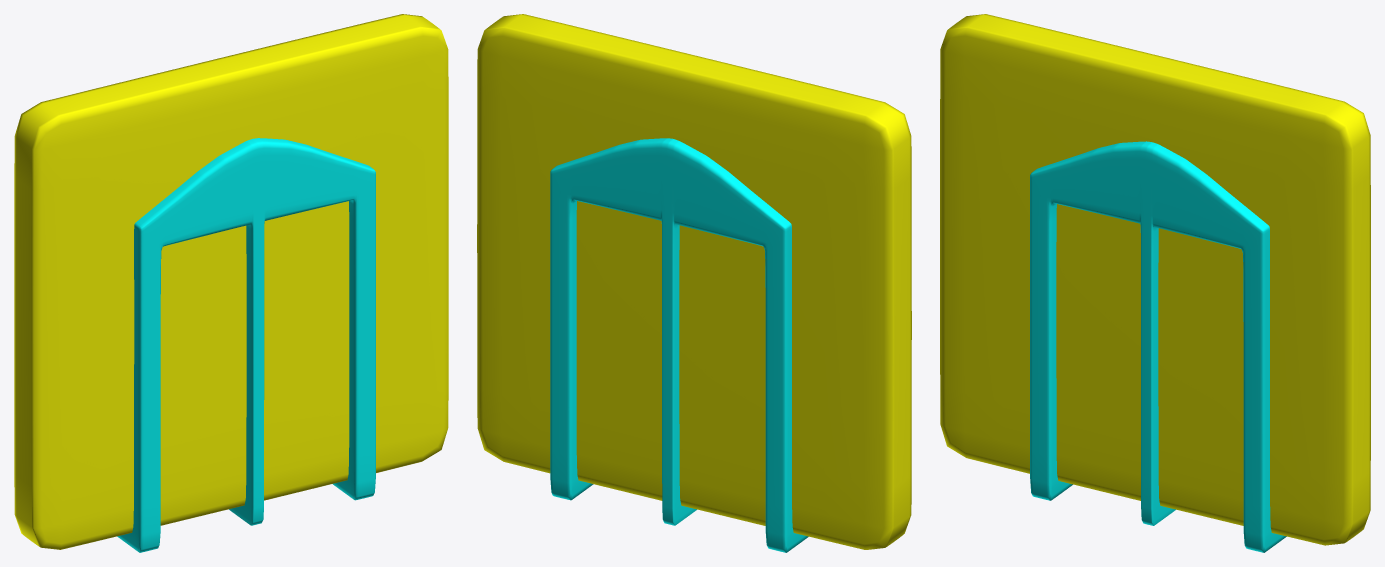
The picture shows the model from 3 angles, left to right: view 1: azimuth 30°, elevation 25°; view 2: azimuth 150°, elevation 25°; view 3: azimuth 330°, elevation 25°; orthographic projection.
Visible parts, largest first — view 1: polySurface1017; view 2: polySurface1017; view 3: polySurface1017.
Boxes of the visible parts, left/top/right/bottom form: polySurface1017: left=14, top=14, right=448, bottom=552; polySurface1017: left=477, top=14, right=911, bottom=552; polySurface1017: left=940, top=14, right=1370, bottom=552.
Size of the model in its own units: 0.9994 by 1.04 by 0.1515.
